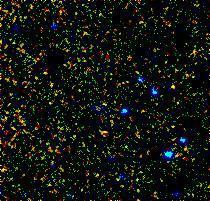star: (159, 75, 189, 105)
